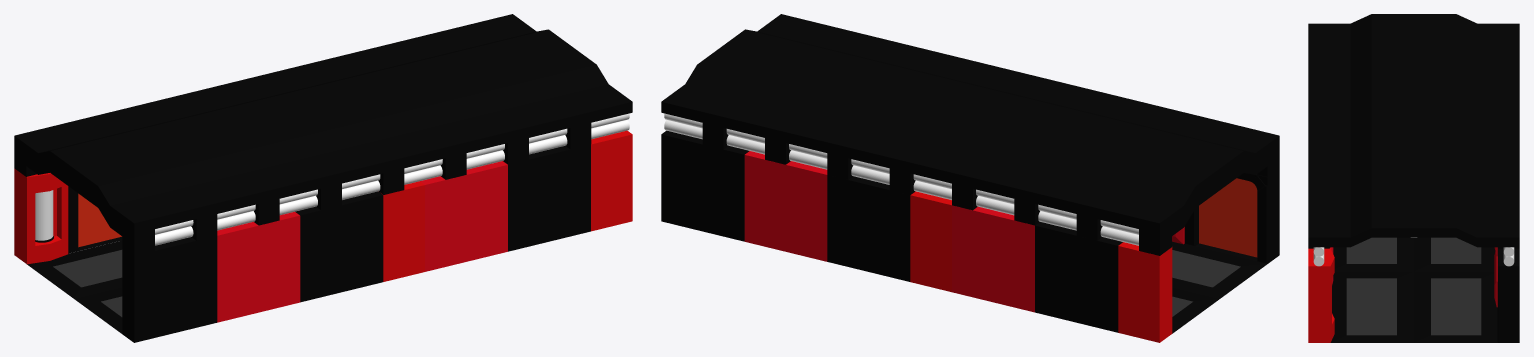
File: DanteHallway.fbx
The picture shows the model from 3 angles, left to right: view 1: azimuth 30°, elevation 25°; view 2: azimuth 150°, elevation 25°; view 3: azimuth 270°, elevation 25°; orthographic projection. The views are drawn at different scales.
Visible parts, largest first — view 1: Cube.047, Cube.033, Cube.036, Cube.035, Cube.039, Cube.038, Cube.046, Plane.002, Cube.040, Cube.037, Cube.043; view 2: Cube.047, Cube.032, Cube.043, Cube.034, Cube.041, Cube.044, Cube.033, Cube.046, Plane.002, Cube.042; view 3: Cube.047, Plane.002, Cube.040, Cube.032, Cube.034.
Part boxes in pixels (x1,y1,x2,y2): Cube.047: (14, 14, 632, 255); Cube.033: (122, 236, 217, 342); Cube.036: (295, 191, 383, 302); Cube.035: (217, 211, 300, 322); Cube.039: (420, 161, 507, 271); Cube.038: (503, 144, 590, 251); Cube.046: (14, 168, 68, 264); Plane.002: (27, 240, 122, 333); Cube.040: (591, 130, 632, 231); Cube.037: (381, 181, 424, 281); Cube.043: (68, 186, 122, 253); Cube.047: (661, 14, 1279, 255); Cube.032: (661, 130, 748, 241); Cube.043: (1035, 222, 1122, 332); Cube.034: (744, 151, 827, 261); Cube.041: (827, 175, 910, 281); Cube.044: (952, 205, 1034, 312); Cube.033: (1184, 168, 1279, 263); Cube.046: (1118, 242, 1172, 342); Plane.002: (1172, 241, 1267, 333); Cube.042: (910, 191, 951, 292); Cube.047: (1308, 14, 1519, 266); Plane.002: (1330, 237, 1497, 342); Cube.040: (1308, 248, 1334, 342); Cube.032: (1497, 247, 1519, 342); Cube.034: (1494, 247, 1497, 307).
Size of the model in its own units: 4800 by 1208 by 2001.
